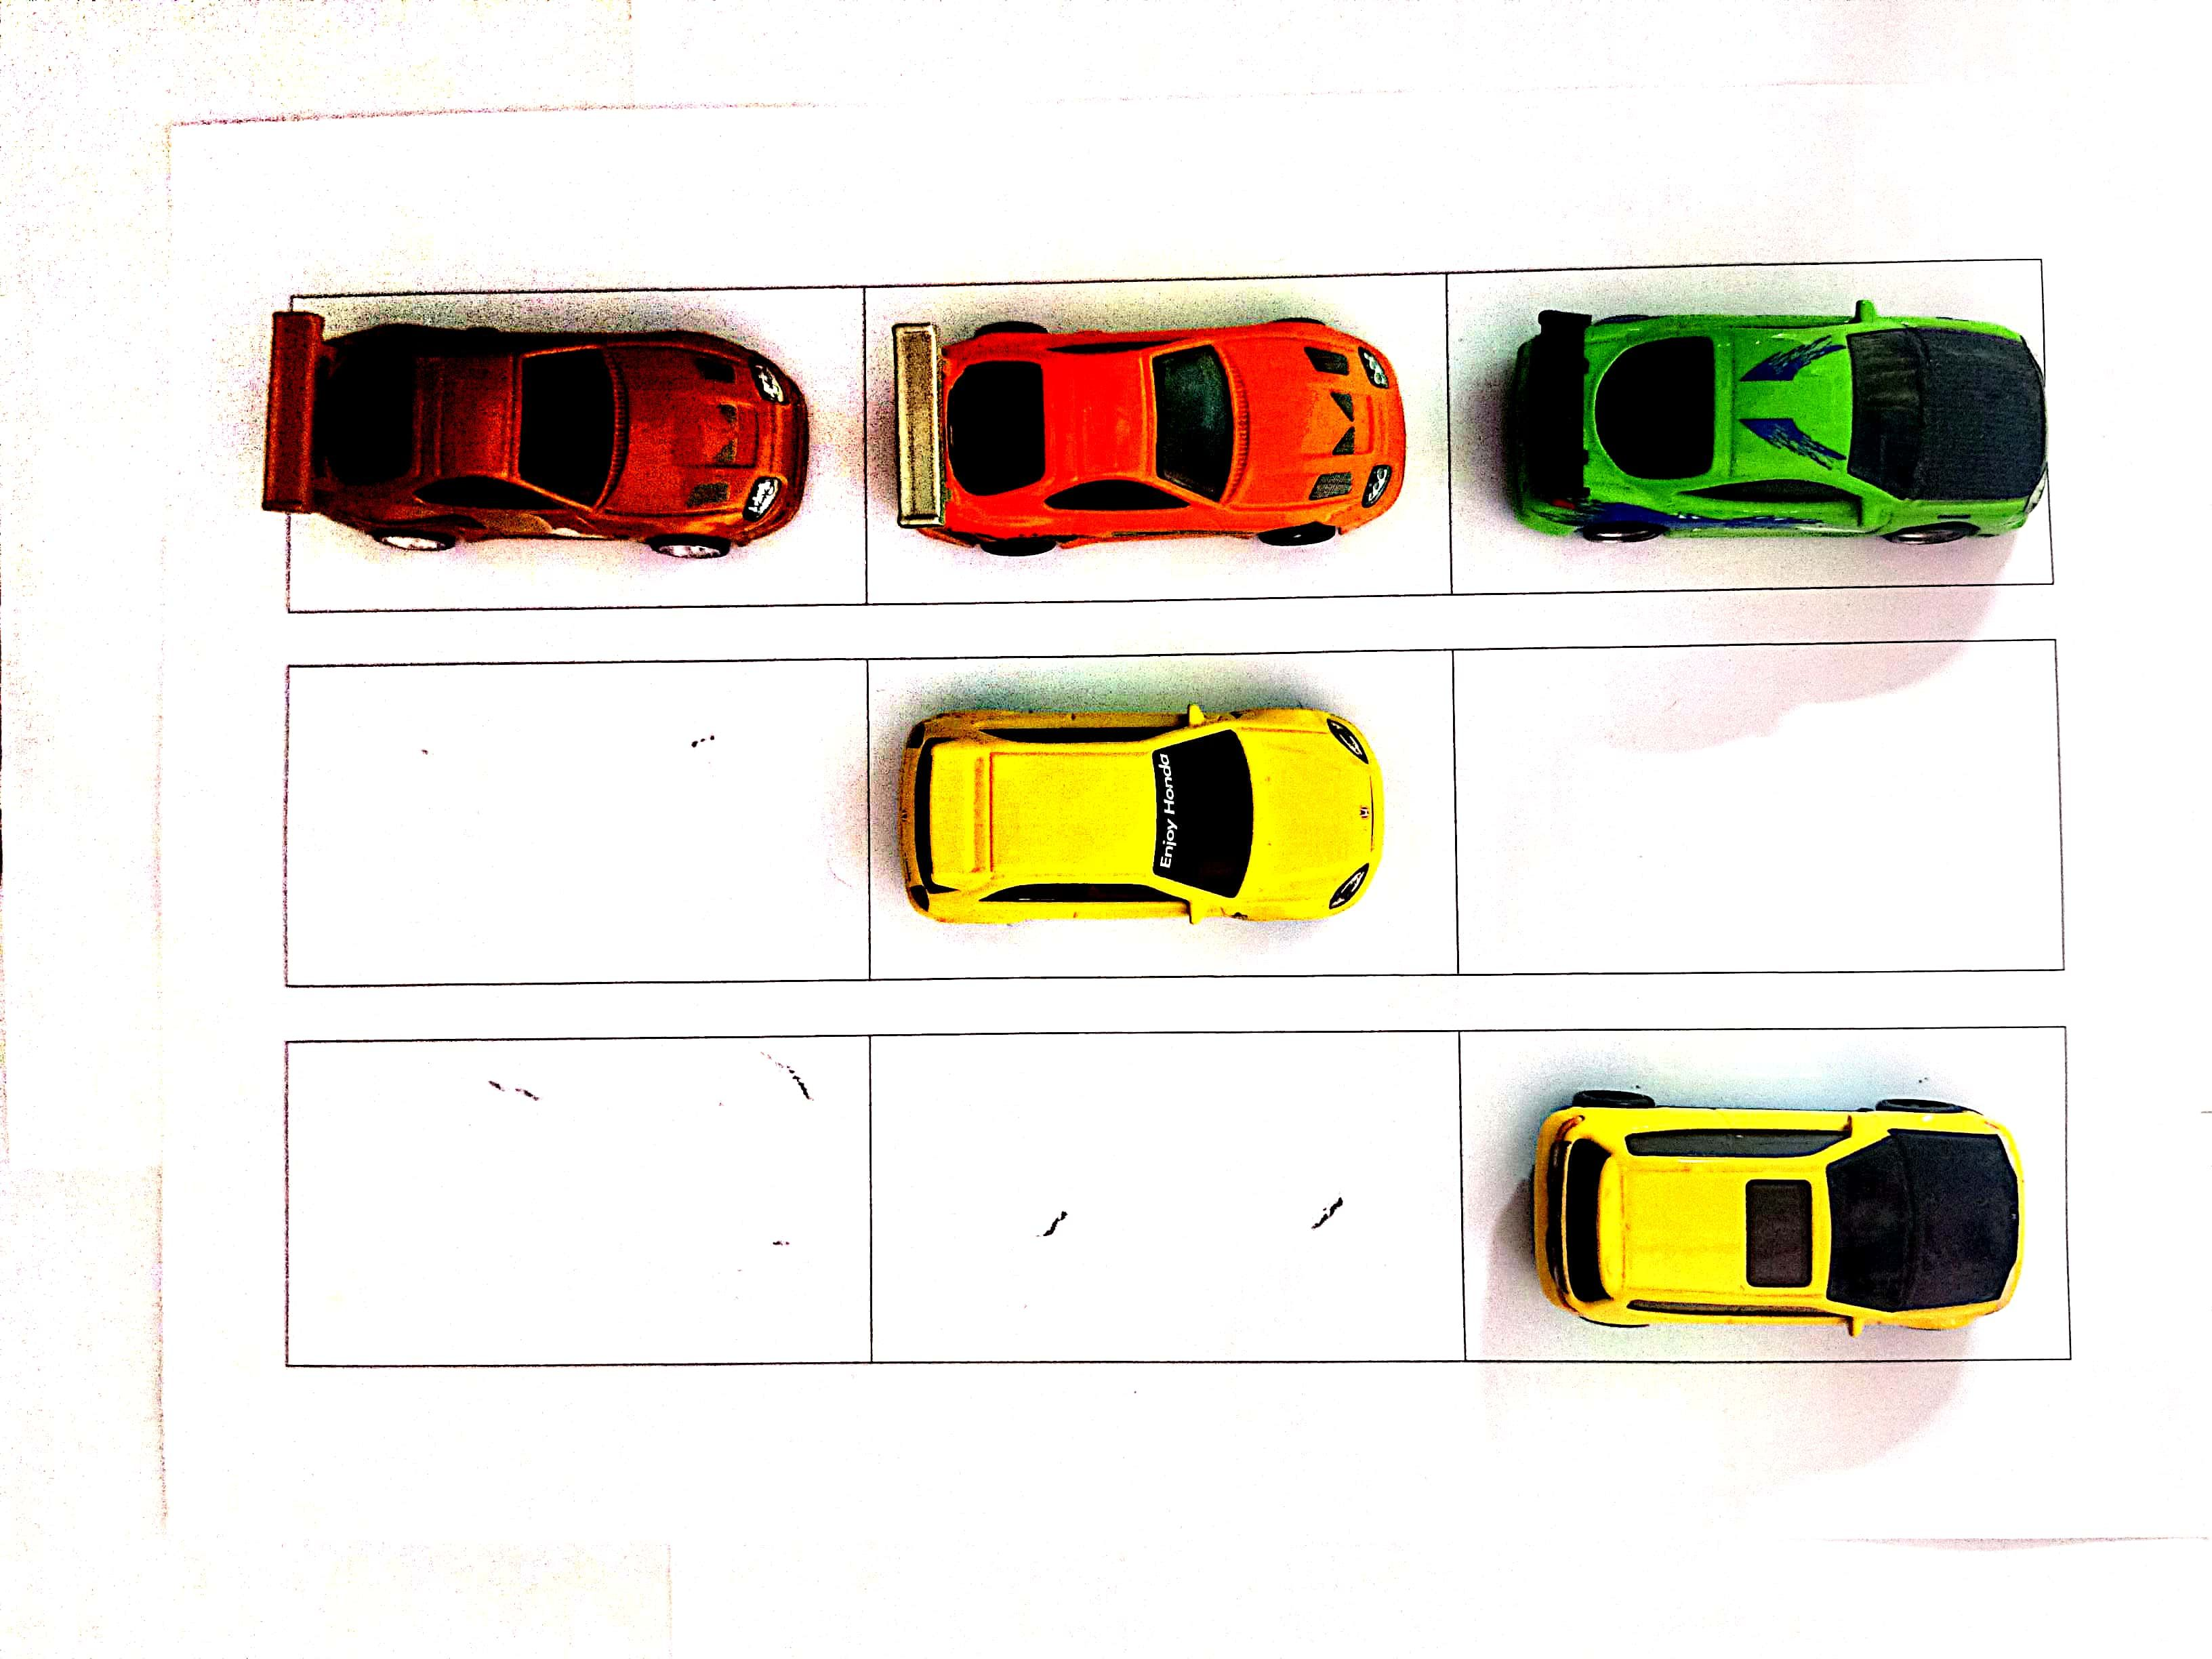Busy: (1463, 1026, 2071, 1363), (1458, 263, 2041, 593), (862, 281, 1449, 603), (871, 650, 1446, 971), (286, 288, 862, 606)
Free: (1458, 640, 2055, 972), (869, 1035, 1467, 1366), (287, 1040, 869, 1366), (286, 662, 866, 979)
